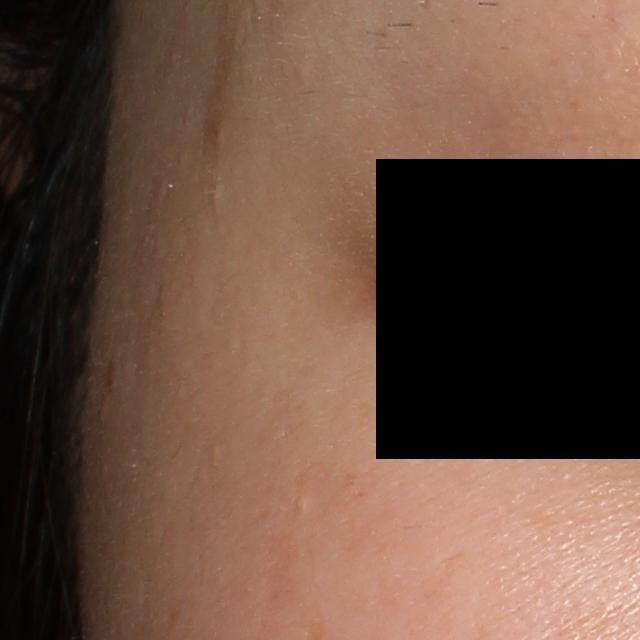comedo: (293, 493, 311, 511)
melasma: (342, 468, 360, 490)
